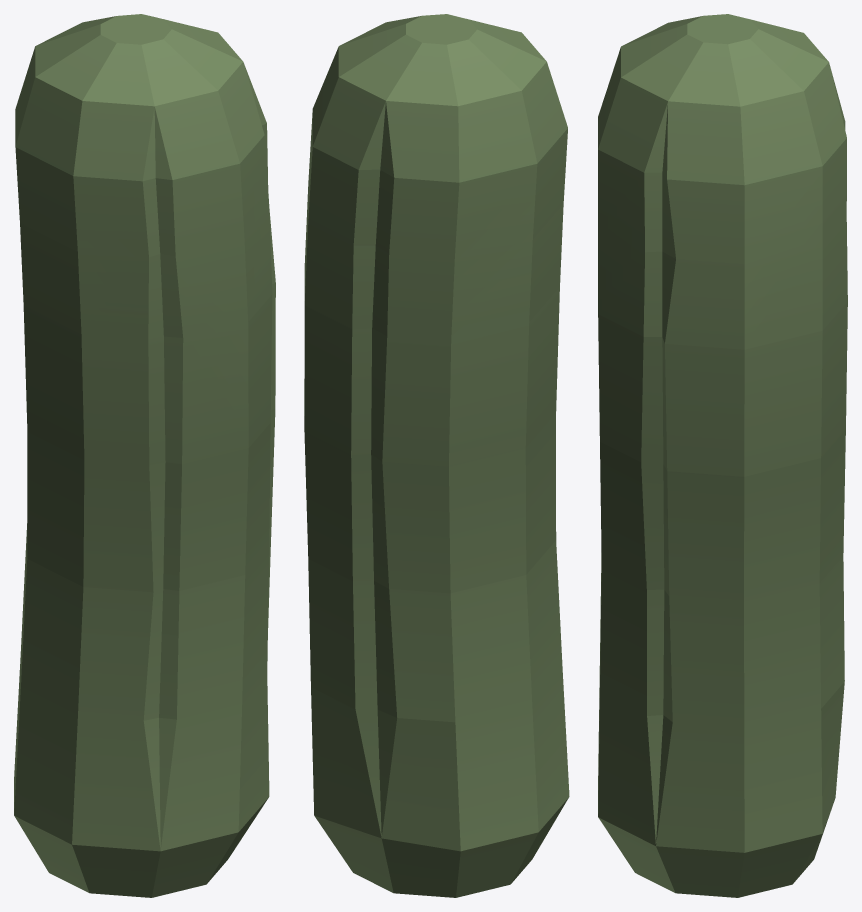
File: Cucumber_01.fbx
3 renders of one model, left to right at view 1: azimuth 30°, elevation 25°; view 2: azimuth 150°, elevation 25°; view 3: azimuth 270°, elevation 25°, orthographic.
Parts seen in each view (by area): view 1: Cucumber_01; view 2: Cucumber_01; view 3: Cucumber_01.
Part boxes in pixels (x1,y1,x2,y2): Cucumber_01: [14, 14, 275, 897]; Cucumber_01: [304, 14, 569, 897]; Cucumber_01: [598, 14, 847, 897].
Bounding box in the file's own units: 4.76 × 16.65 × 4.4.
